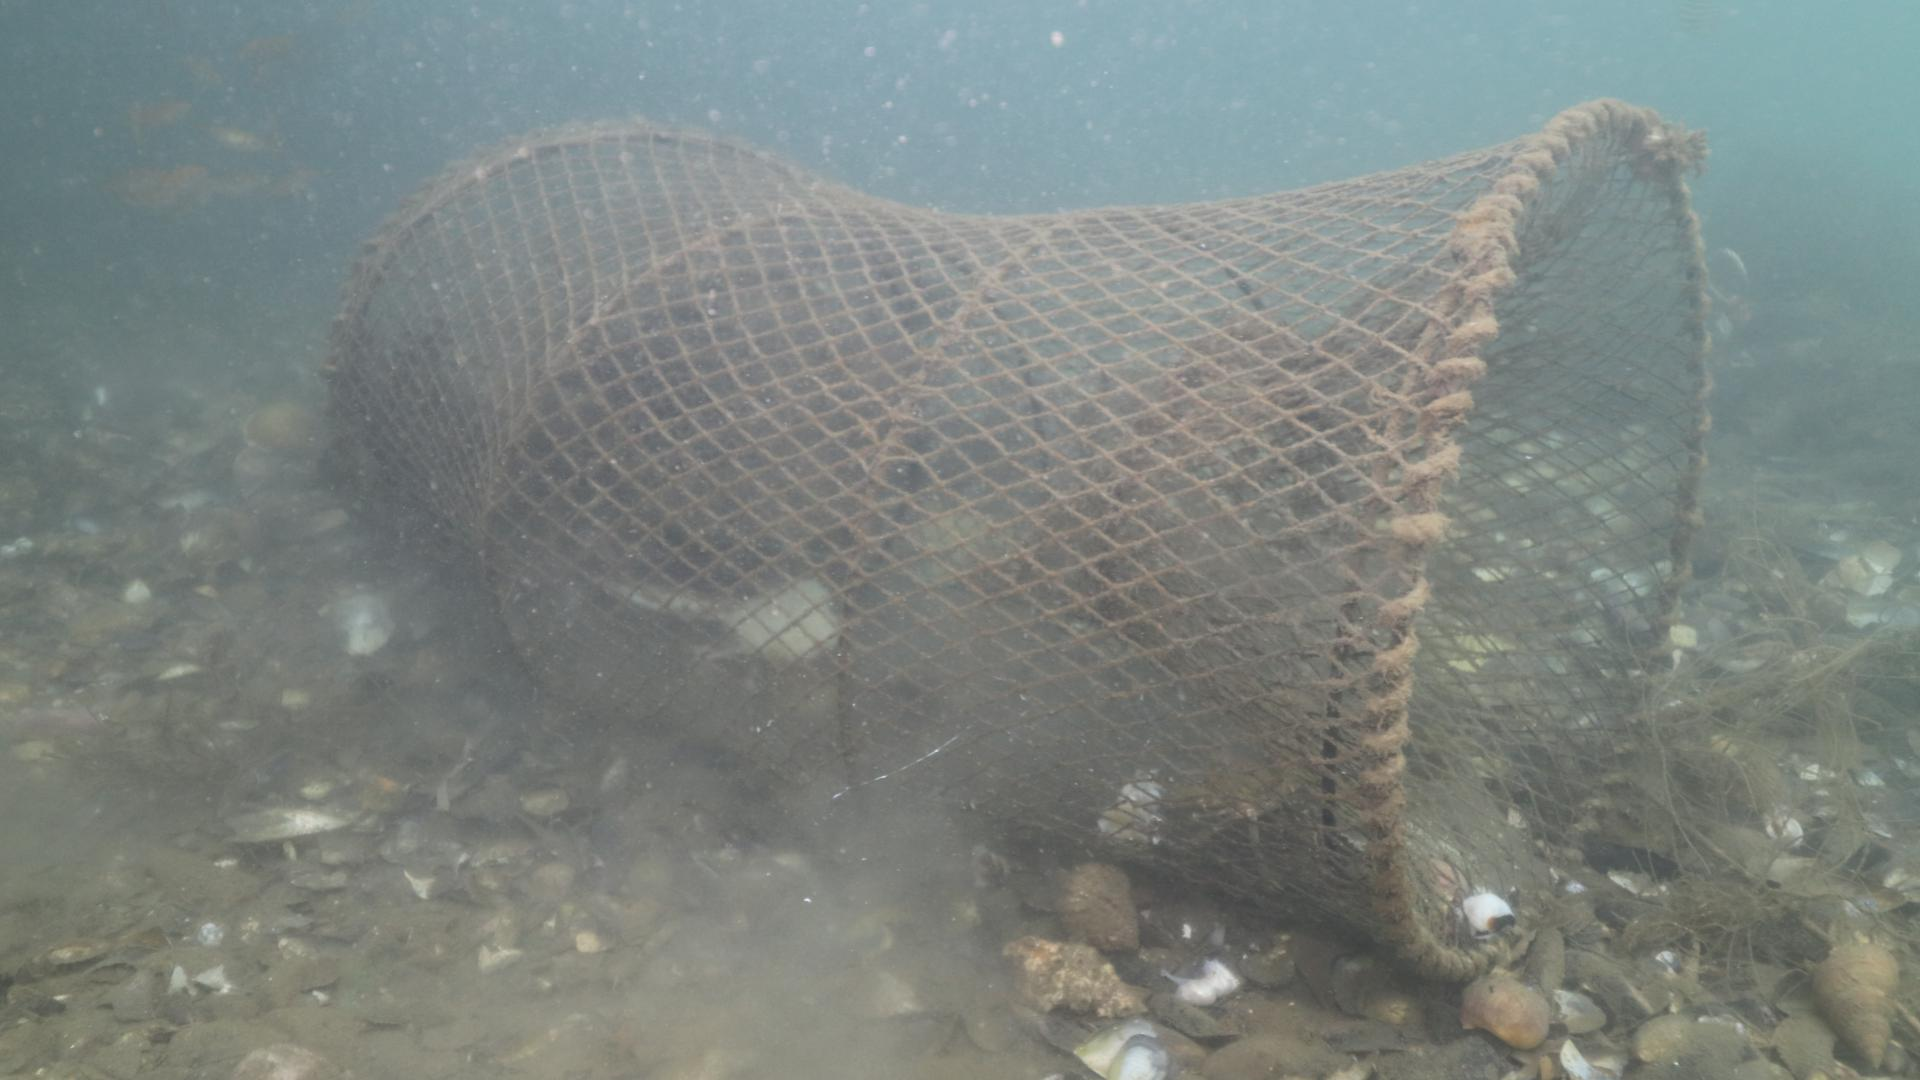spring fish trap: (320, 102, 1716, 990)
